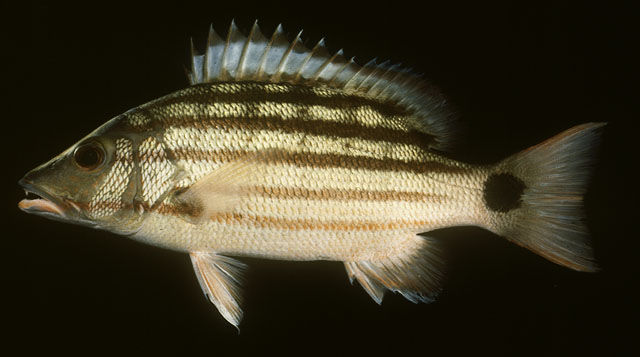fish: (18, 18, 609, 334)
